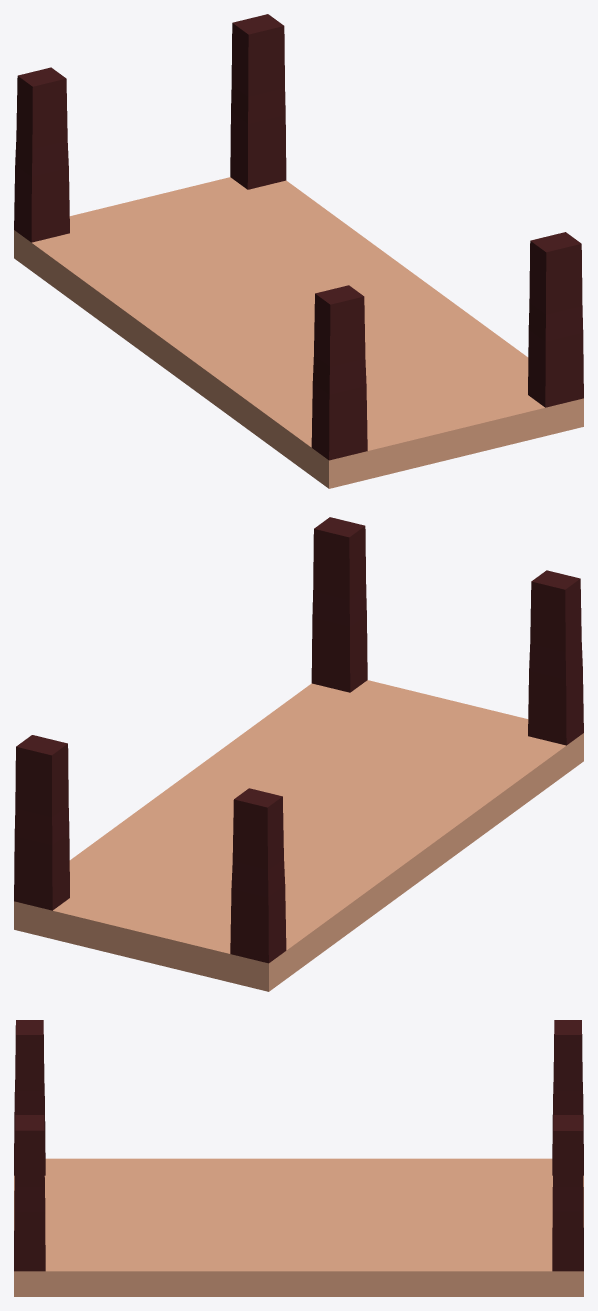
The model's file is Table_002.fbx.
3 renders of one model, top to bottom at view 1: azimuth 30°, elevation 25°; view 2: azimuth 150°, elevation 25°; view 3: azimuth 270°, elevation 25°, orthographic. The views are drawn at different scales.
Parts seen in each view (by area): view 1: Table.002; view 2: Table.002; view 3: Table.002.
Boxes of the visible parts, x1=… form: Table.002: x1=14, y1=14, x2=583, y2=488; Table.002: x1=14, y1=517, x2=583, y2=991; Table.002: x1=14, y1=1020, x2=583, y2=1296.
Size of the model in its own units: 227 by 156 by 486.
